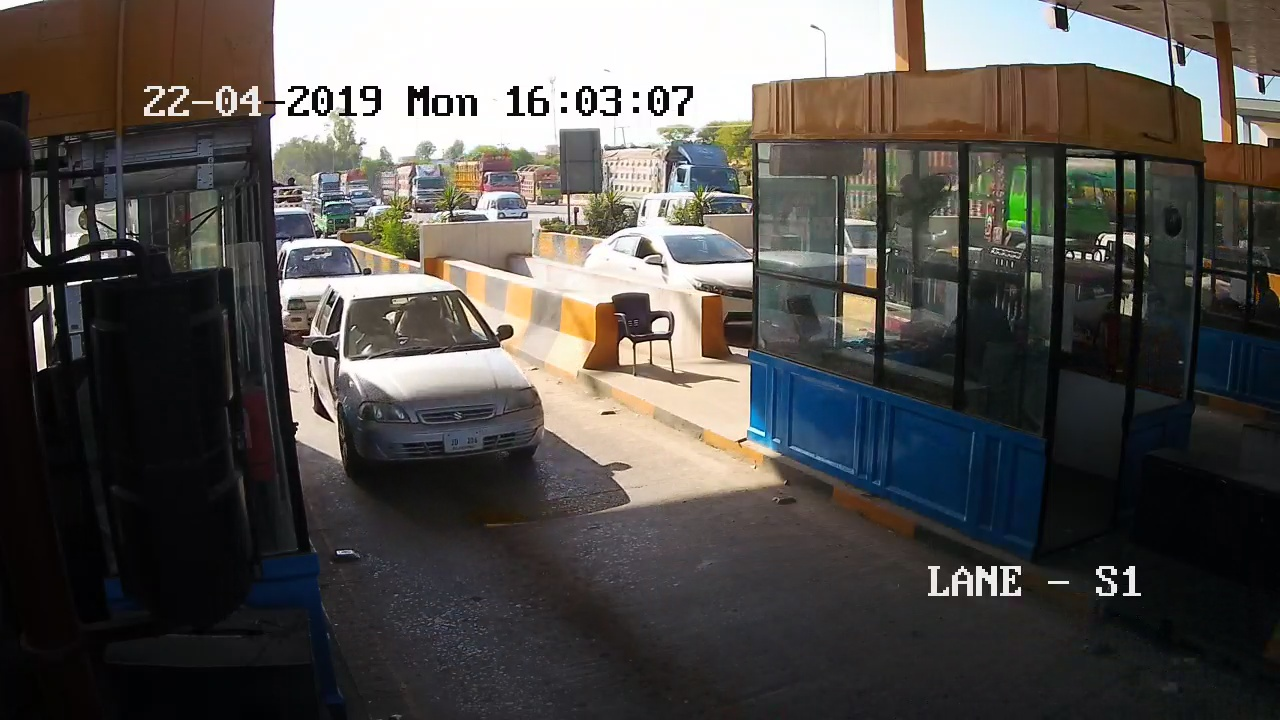Number Plate (Car): (443, 433, 484, 451)
